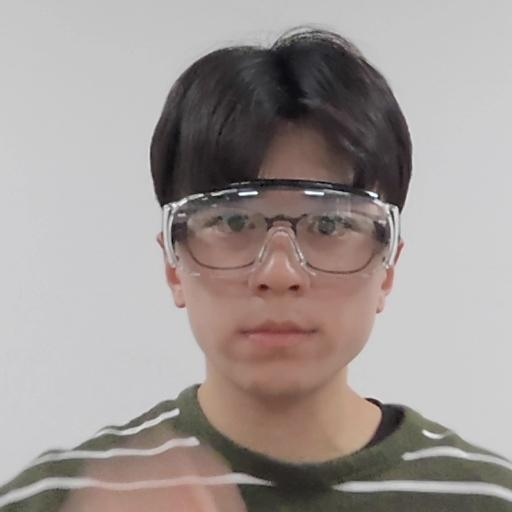glasses: (145, 22, 428, 405)
